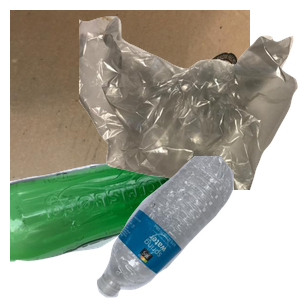cardboard: (10, 10, 250, 190)
glass: (10, 149, 203, 300)
plastic: (94, 156, 300, 300)
trash: (79, 14, 300, 194)
